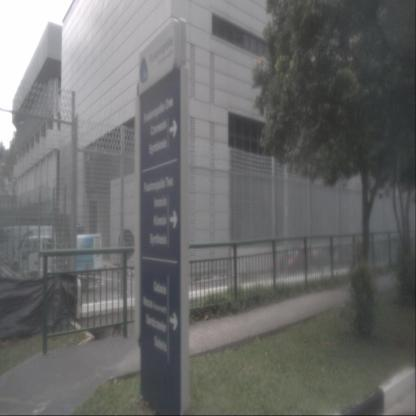vehicle-truck: (20, 232, 102, 289)
